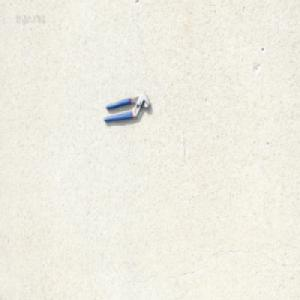Pliers: (103, 92, 151, 125)
